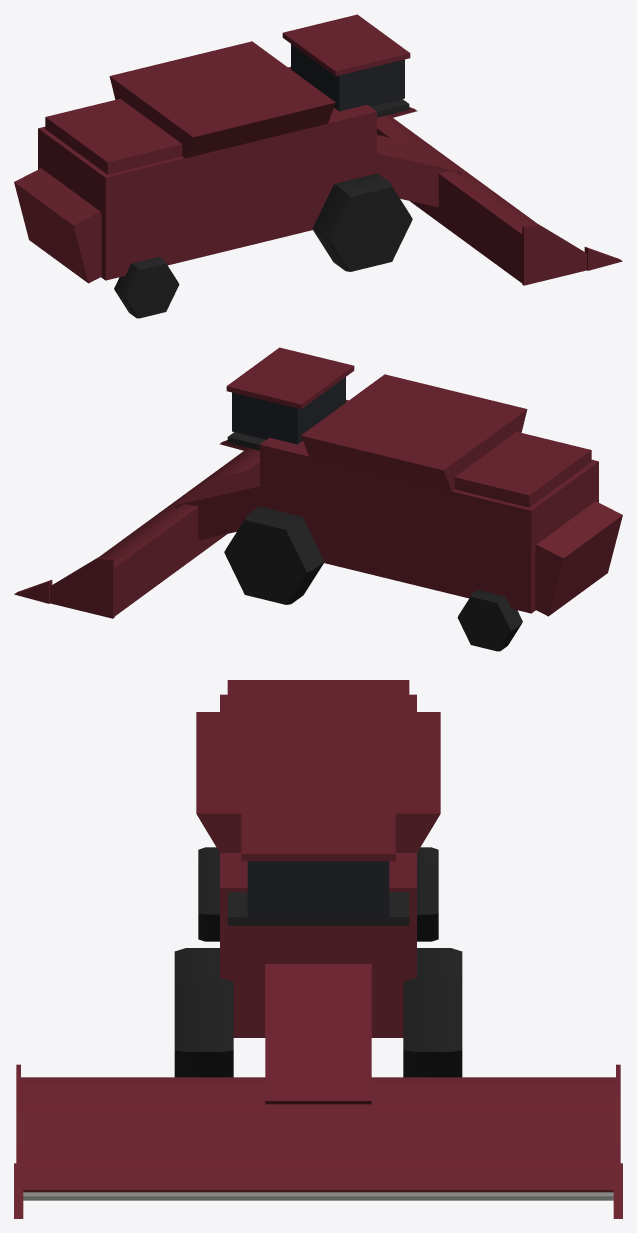
The model's file is SM_Prop_farm_combine_1_LOD2.glb.
The picture shows the model from 3 angles, top to bottom: view 1: azimuth 30°, elevation 25°; view 2: azimuth 150°, elevation 25°; view 3: azimuth 270°, elevation 25°; orthographic projection. The views are drawn at different scales.
Visible parts, largest first — view 1: SM_Prop_farm_combine_1_LOD2; view 2: SM_Prop_farm_combine_1_LOD2; view 3: SM_Prop_farm_combine_1_LOD2.
Part boxes in pixels (box(x1,y1,x2,y2)): SM_Prop_farm_combine_1_LOD2: box(14, 14, 622, 318); SM_Prop_farm_combine_1_LOD2: box(14, 347, 622, 651); SM_Prop_farm_combine_1_LOD2: box(14, 680, 622, 1218).
Bounding box in the file's own units: 10.15 × 3.8 × 7.72.
